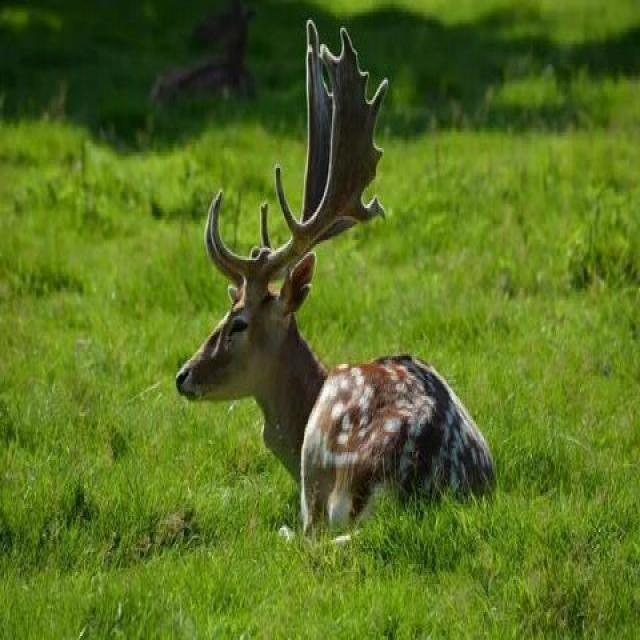deer: (146, 103, 510, 566)
